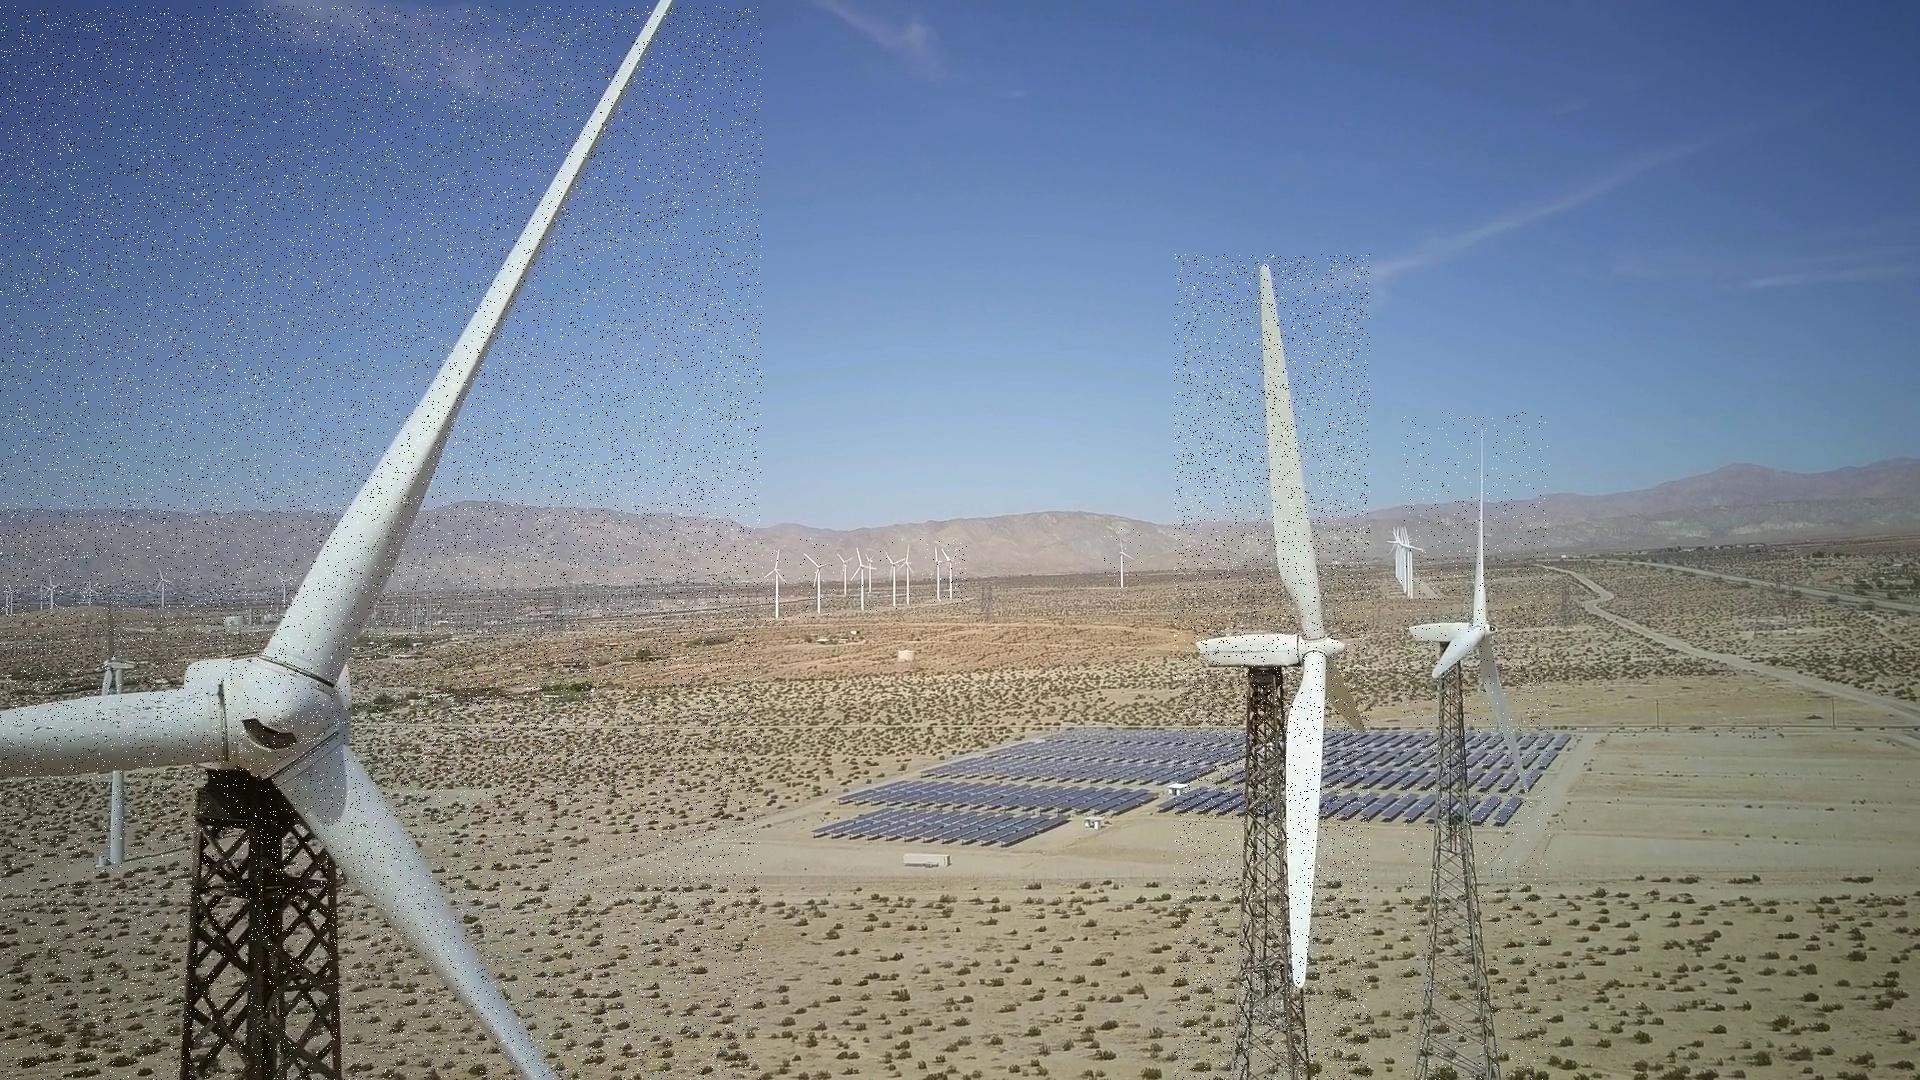turbine: (0, 7, 762, 1080), (1174, 255, 1370, 1080), (1400, 411, 1549, 1080), (80, 604, 150, 876), (837, 541, 886, 617), (136, 554, 190, 618), (798, 538, 836, 622), (890, 538, 924, 616), (1104, 527, 1142, 596), (934, 541, 967, 607), (762, 549, 790, 626), (920, 541, 948, 599)
